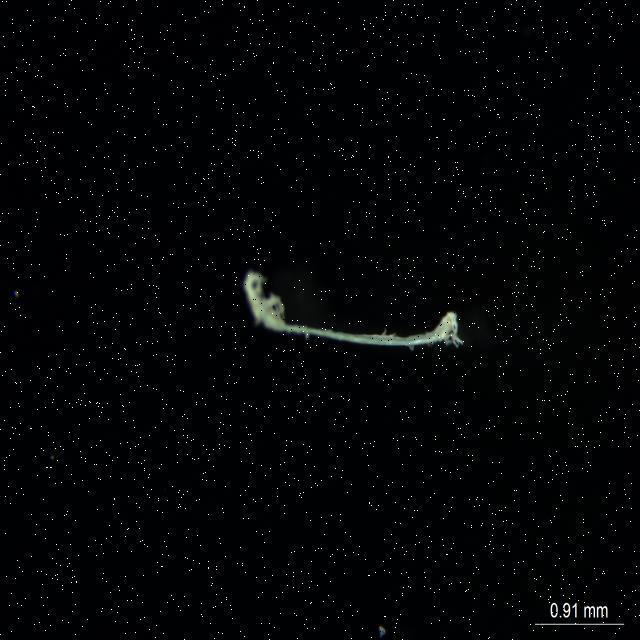Fibre: (242, 266, 470, 360)
